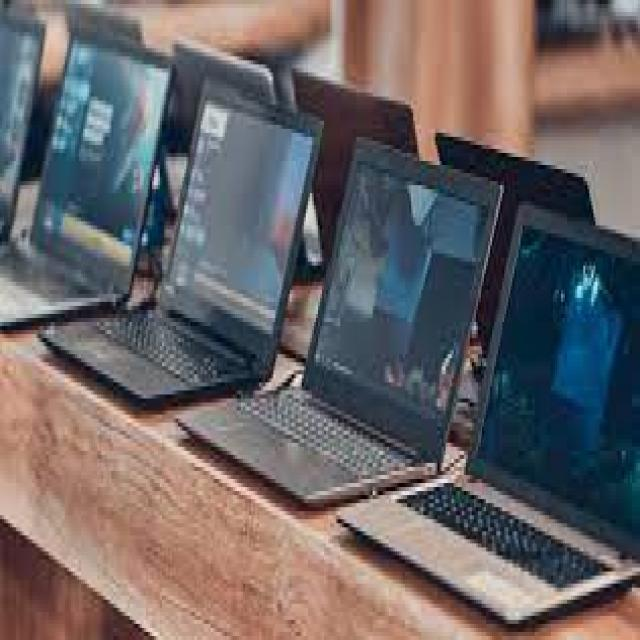others: (2, 4, 636, 608)
